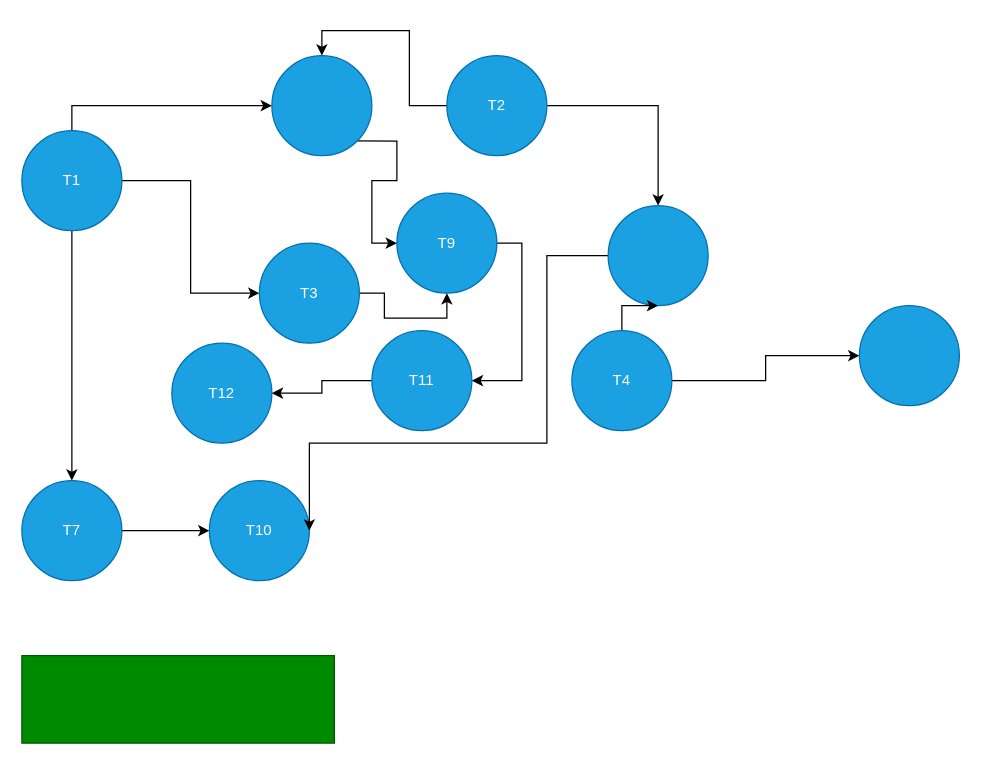
Image size: 981x765. Some labels were removed from this diagram. Here are the shapes that lost their labels. From the top down, the centre of each, then its label:
point (321, 105): T6
point (657, 255): T5
point (908, 355): T8
point (177, 698): Forward Pass = 55 Days
